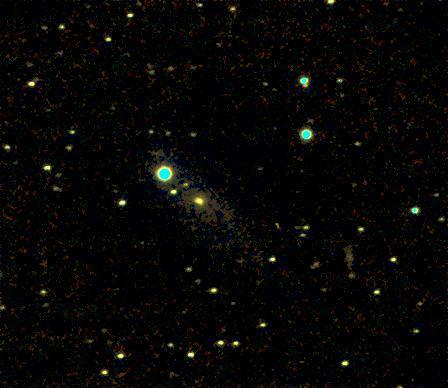star: (187, 185, 217, 215)
